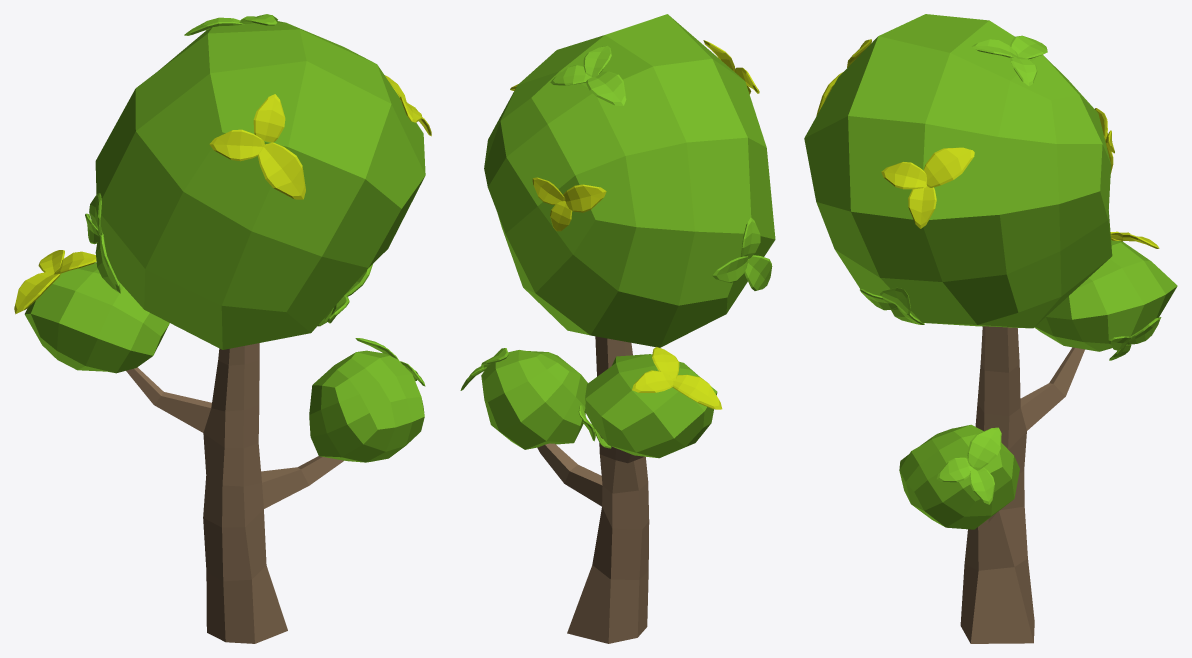
File: SM_Tree_3.fbx
The picture shows the model from 3 angles, left to right: view 1: azimuth 30°, elevation 25°; view 2: azimuth 150°, elevation 25°; view 3: azimuth 270°, elevation 25°; orthographic projection. The views are drawn at different scales.
Visible parts, largest first — view 1: SM_Tree_3_LOD0; view 2: SM_Tree_3_LOD0; view 3: SM_Tree_3_LOD0.
Part boxes in pixels (x1,y1,x2,y2): SM_Tree_3_LOD0: (14,14,431,643); SM_Tree_3_LOD0: (460,14,775,643); SM_Tree_3_LOD0: (804,14,1177,643).
Size of the model in its own units: 511 by 501 by 880.
1 material, 1 textured.
